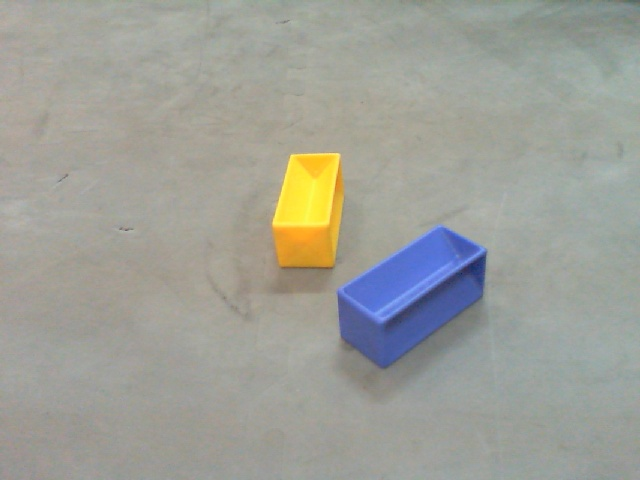BlueSample: (336, 223, 491, 372)
YellowSample: (266, 151, 343, 271)
